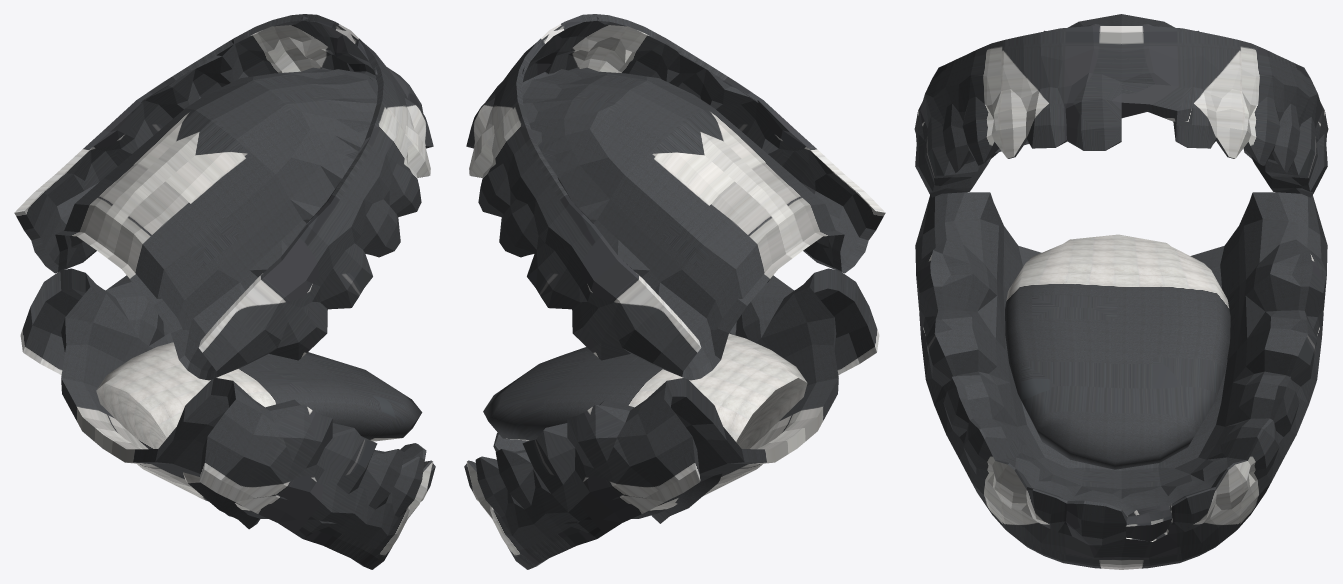
Rendered from broken_teeth.fbx.
3 renders of one model, left to right at view 1: azimuth 30°, elevation 25°; view 2: azimuth 150°, elevation 25°; view 3: azimuth 270°, elevation 25°, orthographic. The views are drawn at different scales.
Visible parts, largest first — view 1: Plane.006, Plane.005, Plane.001; view 2: Plane.006, Plane.005, Plane.001; view 3: Plane.005, Plane.006, Plane.001.
Boxes of the visible parts, bbox=[...] form: Plane.006: bbox=[14, 14, 433, 380]; Plane.005: bbox=[20, 268, 435, 569]; Plane.001: bbox=[96, 342, 422, 529]; Plane.006: bbox=[466, 14, 885, 380]; Plane.005: bbox=[464, 268, 879, 569]; Plane.001: bbox=[483, 333, 807, 523]; Plane.005: bbox=[915, 192, 1327, 569]; Plane.006: bbox=[914, 14, 1328, 197]; Plane.001: bbox=[1005, 234, 1230, 469].
Bounding box in the file's own units: 15.06 × 23.83 × 16.28.
